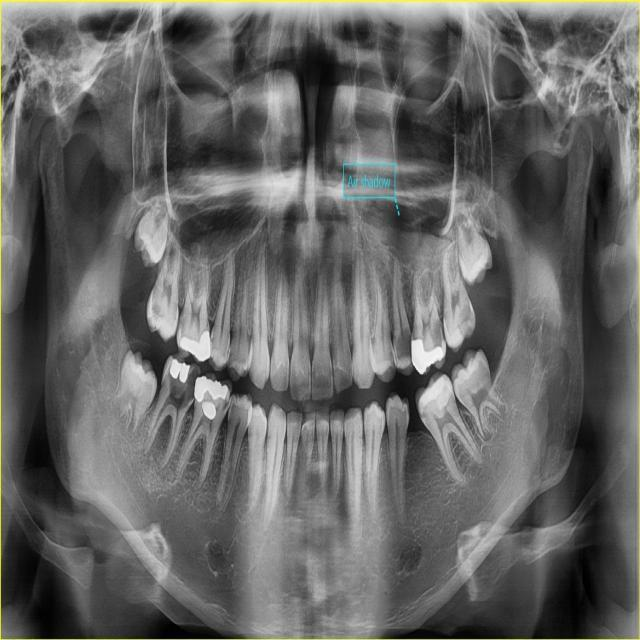NucleOSS Implant: (401, 330, 447, 375), (178, 332, 215, 364), (193, 373, 228, 401), (168, 358, 191, 383), (201, 399, 218, 421)
Sterngold Implant: (166, 363, 205, 409), (454, 296, 482, 340), (428, 317, 449, 357), (396, 326, 412, 366), (143, 301, 166, 328), (176, 307, 188, 338), (221, 390, 232, 414), (170, 301, 179, 328), (418, 407, 431, 425), (387, 344, 397, 365), (412, 324, 421, 341), (228, 397, 235, 416), (328, 364, 333, 380), (210, 332, 215, 347), (228, 349, 234, 360), (311, 367, 316, 380), (268, 429, 272, 445), (205, 320, 210, 331), (475, 380, 481, 389), (307, 367, 311, 380)
Straumann Implant: (418, 372, 459, 416)
